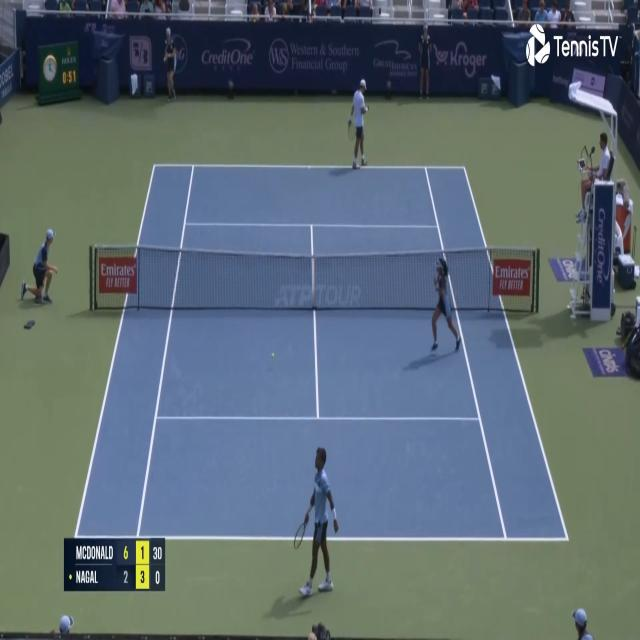tennis-player: (293, 444, 340, 606), (345, 76, 370, 173)
